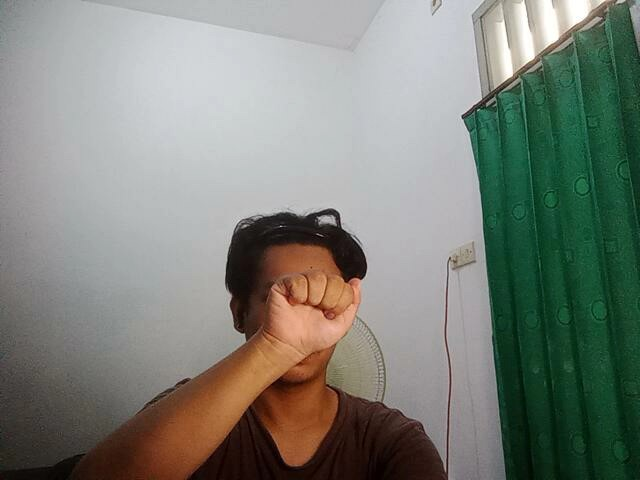A: (262, 269, 374, 357)
